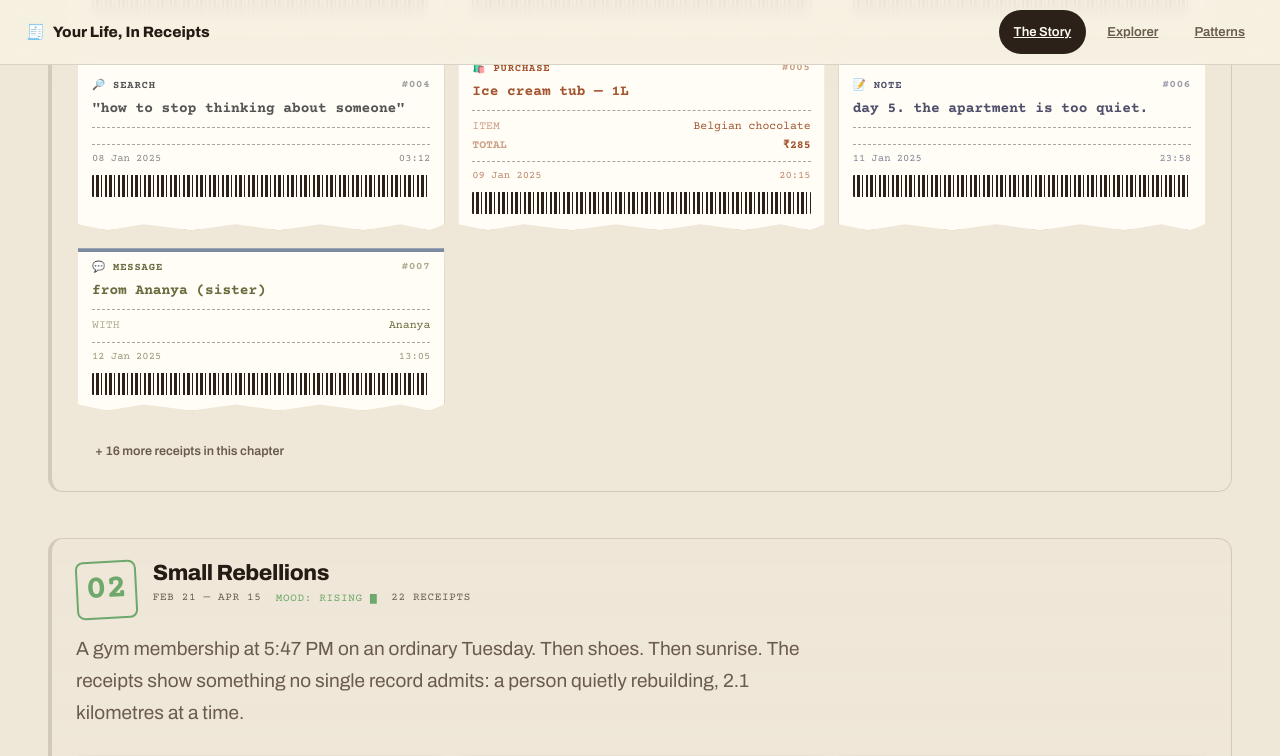
Test case: accessibility contract › describes chapter disclosures with aria-expanded and aria-controls
The width and height of the screenshot is (1280, 756).
(page scrolled)
What coordinates should you click on to do the following:
click the button "+ 16 more receipts in this chapter"
I would click on:
 (190, 450)
Its box is x1=76 y1=428 x2=303 y2=472.
(page scrolled)
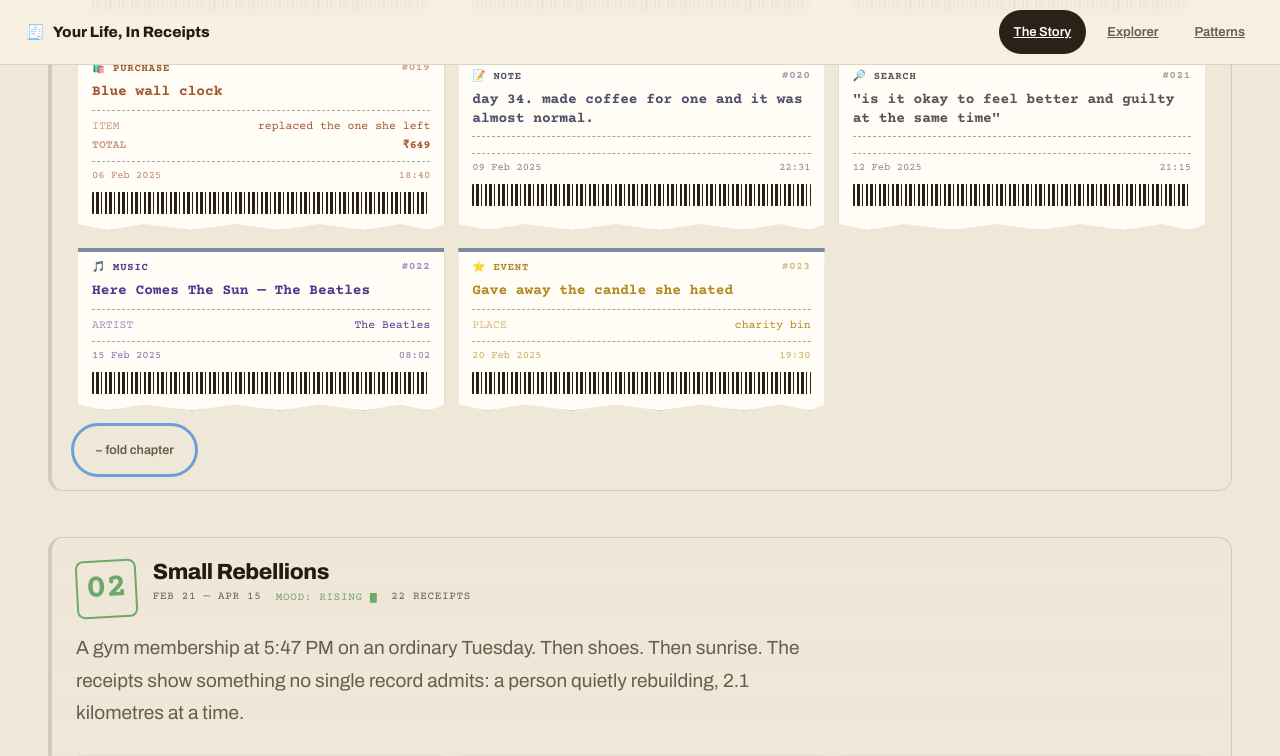
Check: the button named "more receipts in this chapter" is expanded, box x1=76 y1=428 x2=193 y2=472
